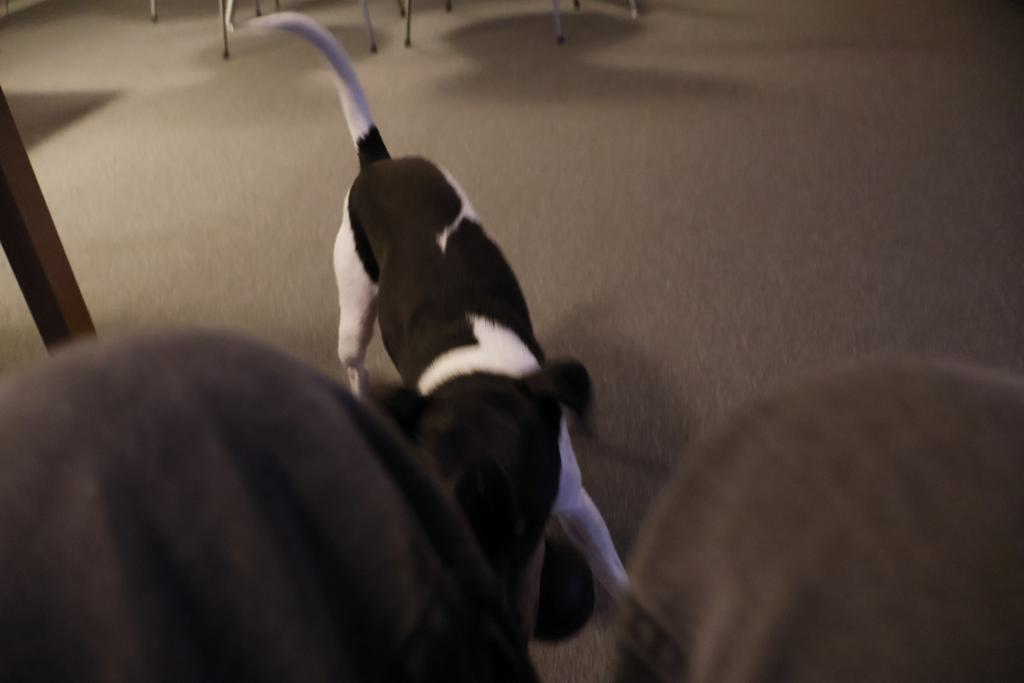Dog: (235, 7, 650, 627)
Humanoid: (0, 295, 1024, 683)
